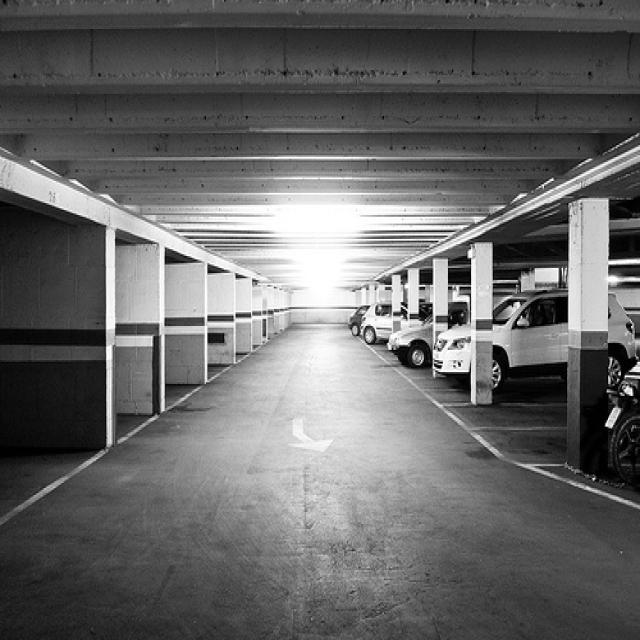pillar: (566, 198, 608, 471), (470, 242, 492, 404), (431, 258, 448, 343), (390, 275, 401, 333), (408, 268, 417, 319)
